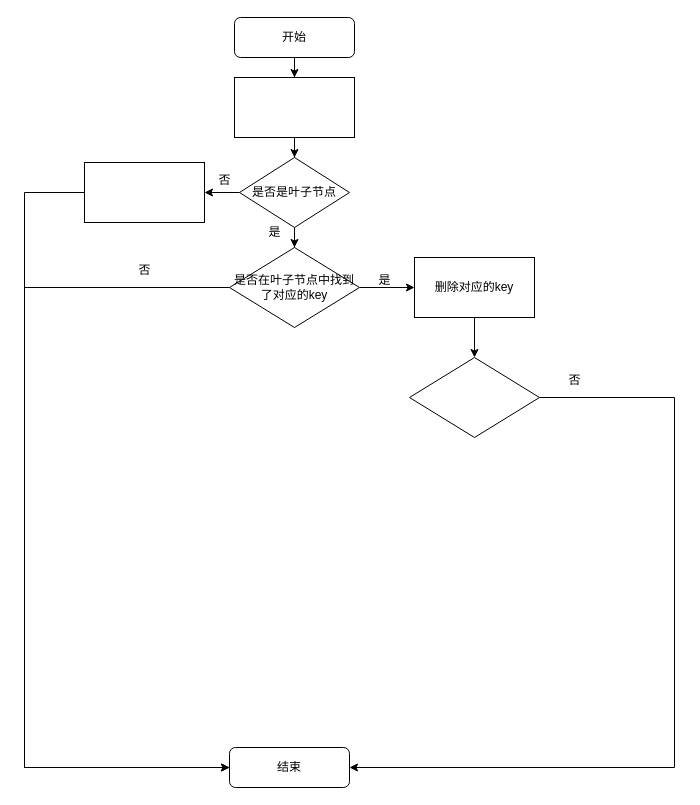
Some shapes in this 700 by 805 pixel diagram are drawn without their labels. Here are the shapes that lost their labels. From the top down, the centre of each, then its label:
At (294,107): "遍历找到对应结点".
At (144,192): "删除对应内 部节点即可".
At (474,397): "是否让key数量< 最小key".
